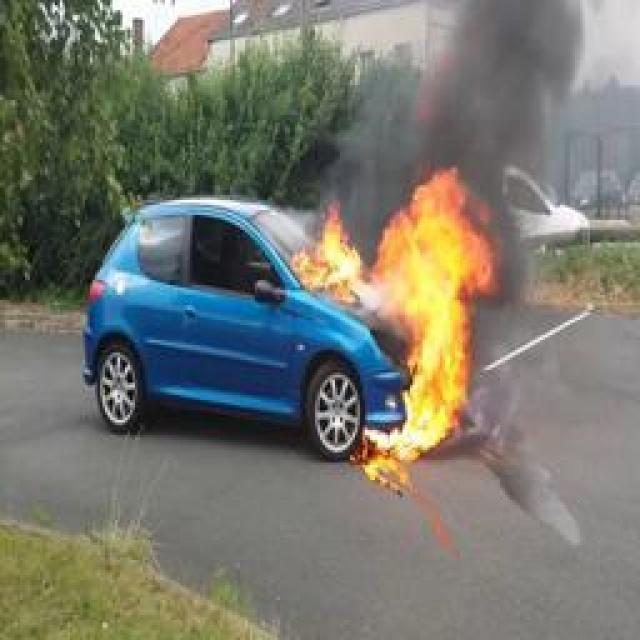Fire: (294, 170, 502, 465)
